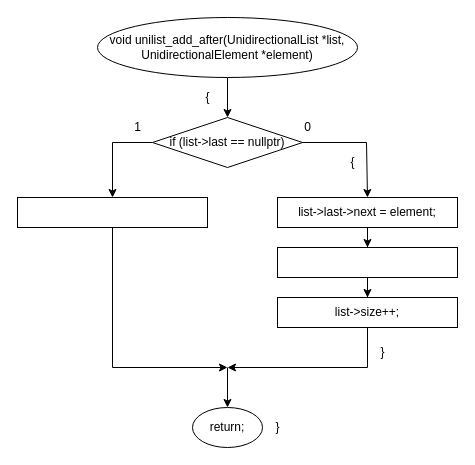
The diagram is 475 pixels wide and 465 high, and some of its shapes have lost their labels. The shapes that lost their labels are listed below. From the top down, each one's box as (x1, y1, x2, y2) in pixels, then its label:
(16, 196, 208, 228): unilist_add_before(list, element);
(276, 246, 458, 278): list->last = element;
